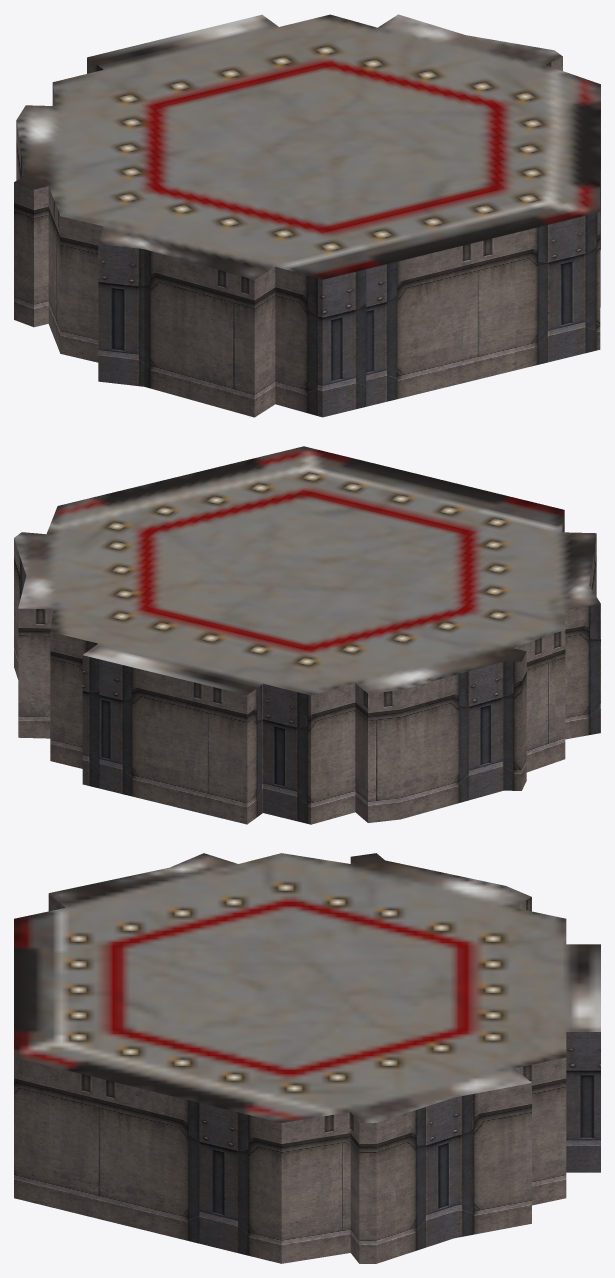
File: bsealed_heavy_51.glb
3 renders of one model, top to bottom at view 1: azimuth 30°, elevation 25°; view 2: azimuth 150°, elevation 25°; view 3: azimuth 270°, elevation 25°, orthographic. The views are drawn at different scales.
Visible parts, largest first — view 1: buildings/saxarba/bsealed_heavy/bsealed_heavy_51; view 2: buildings/saxarba/bsealed_heavy/bsealed_heavy_51; view 3: buildings/saxarba/bsealed_heavy/bsealed_heavy_51.
Part boxes in pixels (bbox=[...]): buildings/saxarba/bsealed_heavy/bsealed_heavy_51: bbox=[14, 14, 600, 417]; buildings/saxarba/bsealed_heavy/bsealed_heavy_51: bbox=[14, 446, 600, 824]; buildings/saxarba/bsealed_heavy/bsealed_heavy_51: bbox=[14, 853, 600, 1263].
Bounding box in the file's own units: 74 × 18 × 68.
